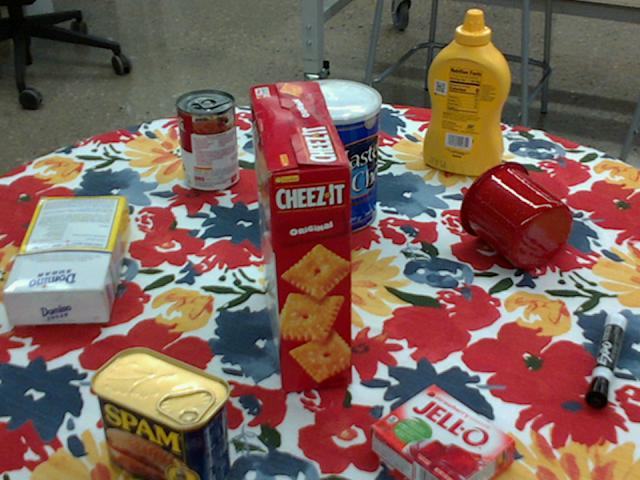cracker_box: (249, 85, 348, 393)
gelatin_box: (370, 384, 517, 479)
large_marker: (586, 310, 627, 404)
master_chef_can: (284, 78, 381, 235)
mug: (459, 160, 572, 268)
mustard_bottle: (422, 11, 509, 175)
potted_meat_can: (86, 348, 228, 479)
sugar_box: (3, 198, 130, 325)
tomato_soup_can: (176, 90, 238, 192)
tuna_fish_can: (300, 115, 368, 167)
